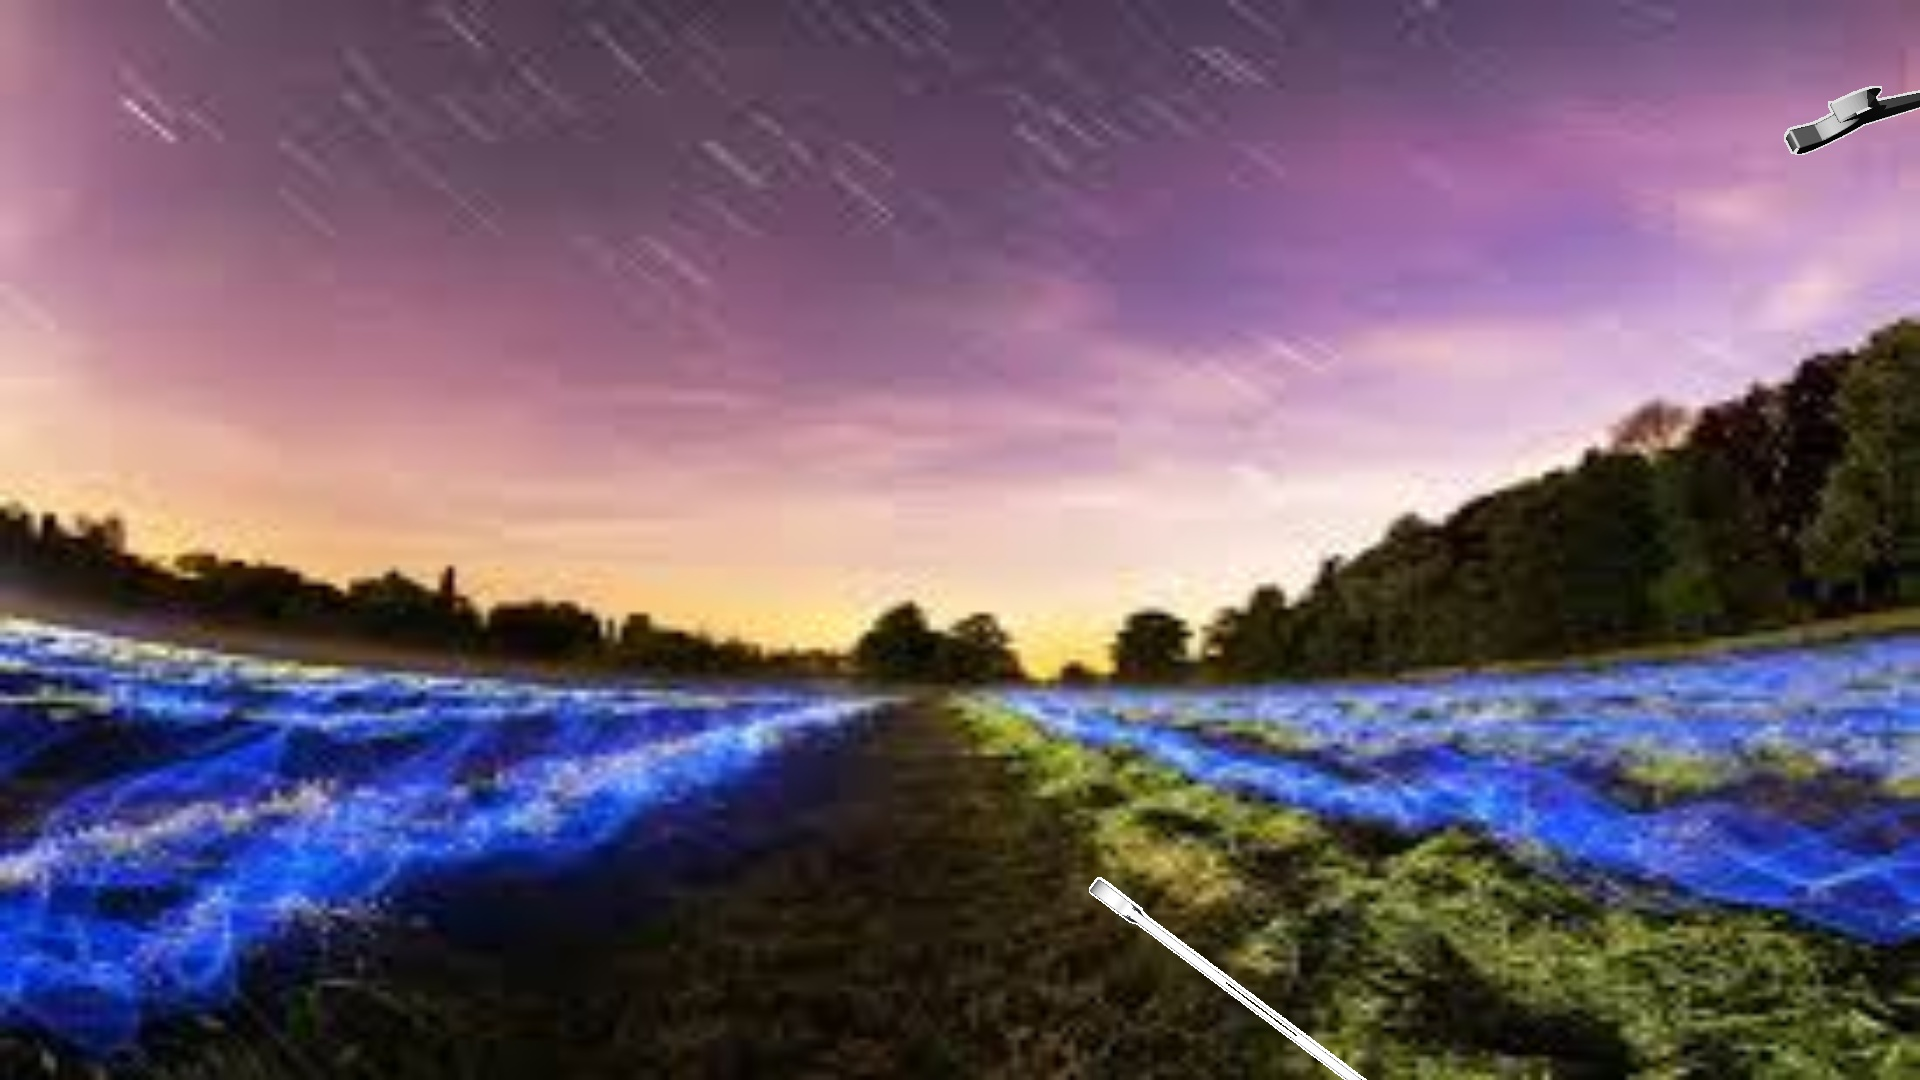Mixed Key: (1089, 877, 1366, 1079), (1784, 86, 1919, 154)
